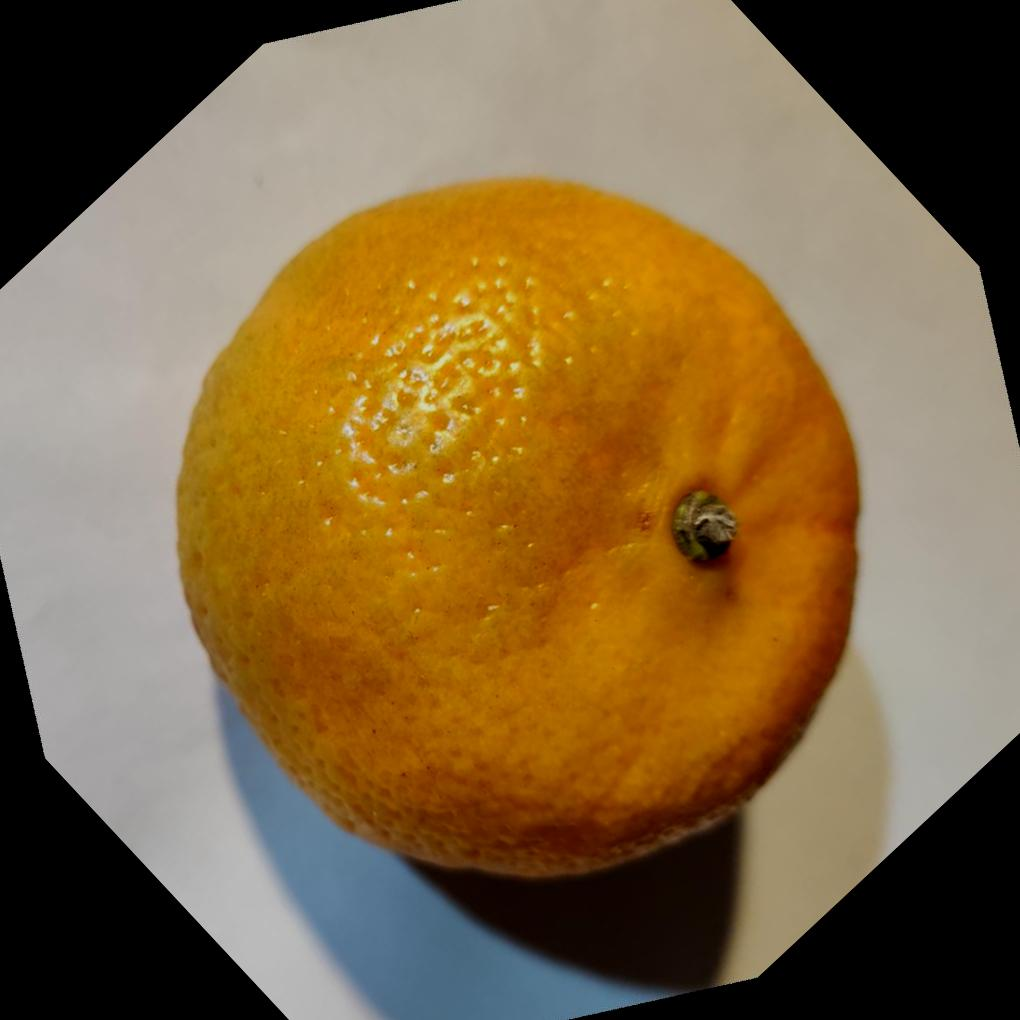FreshGuava: (168, 175, 860, 884)
